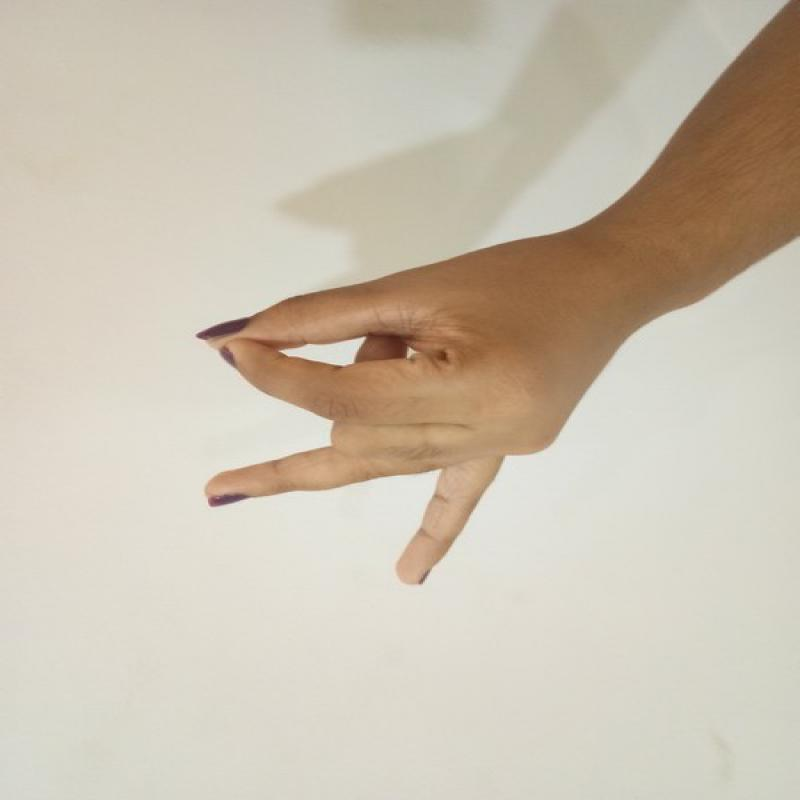Katakam: (177, 222, 640, 599)
